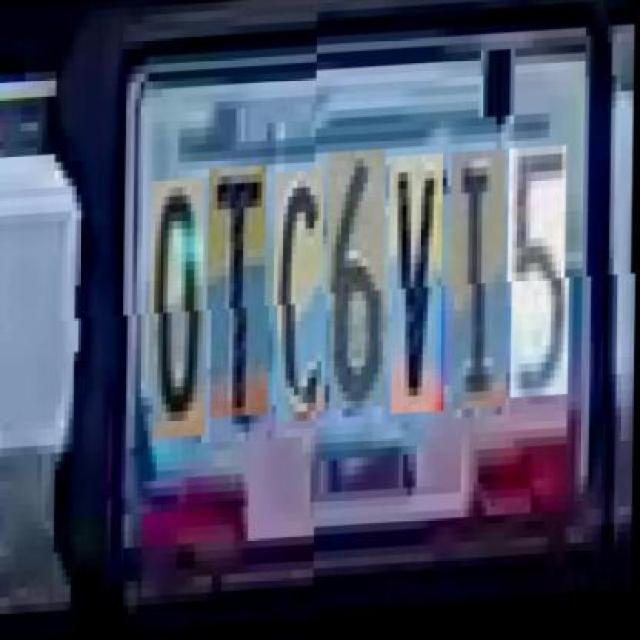5: (512, 160, 572, 414)
6: (331, 162, 391, 423)
c: (278, 174, 329, 426)
i: (454, 164, 511, 424)
o: (154, 181, 211, 441)
t: (212, 168, 272, 422)
v: (392, 168, 448, 428)
